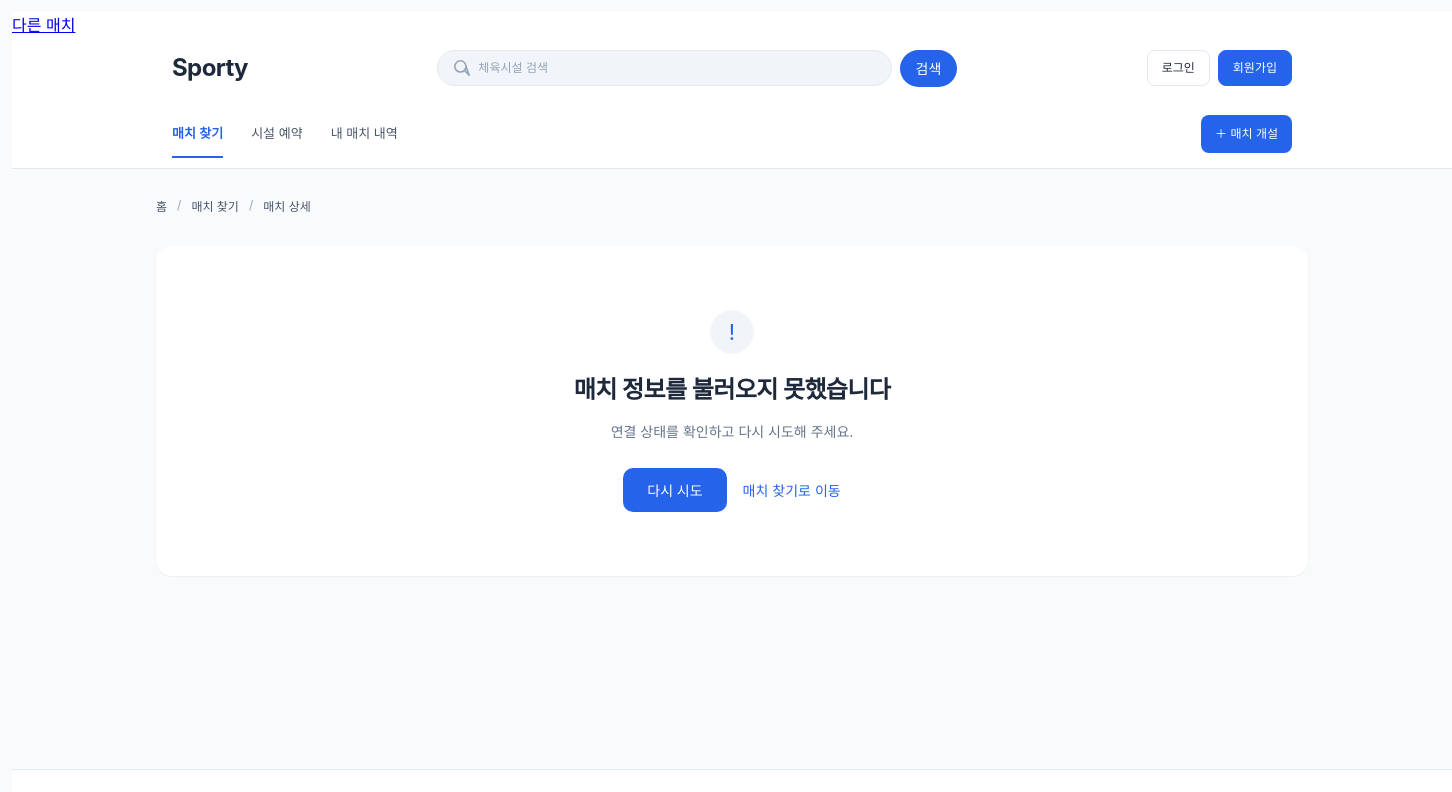
Test case: can retry after a request failure
Click the button "다시 시도".
click(675, 490)  # box [623,468,727,512]
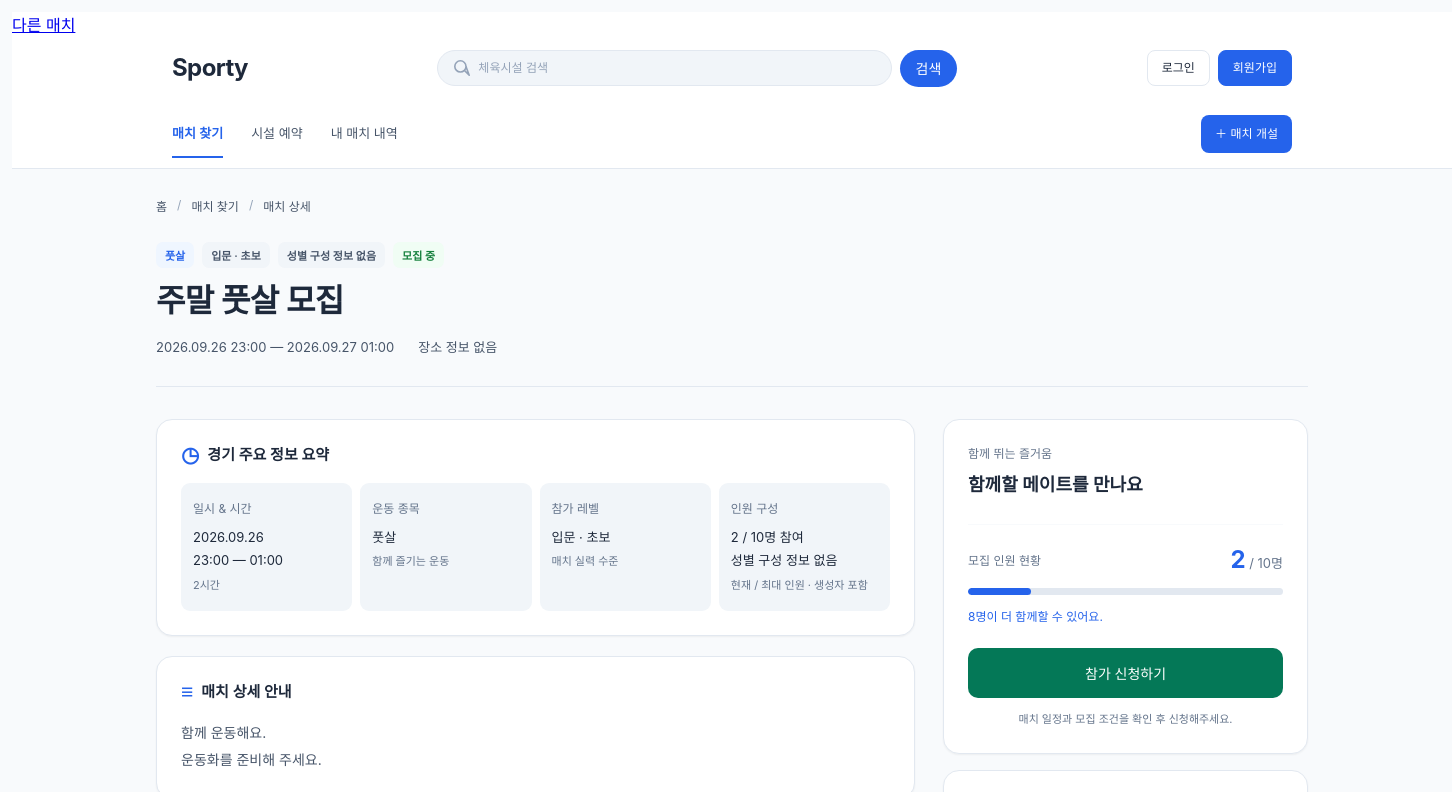
Check: the heading "주말 풋살 모집" is shown, box [156,280,344,320]
